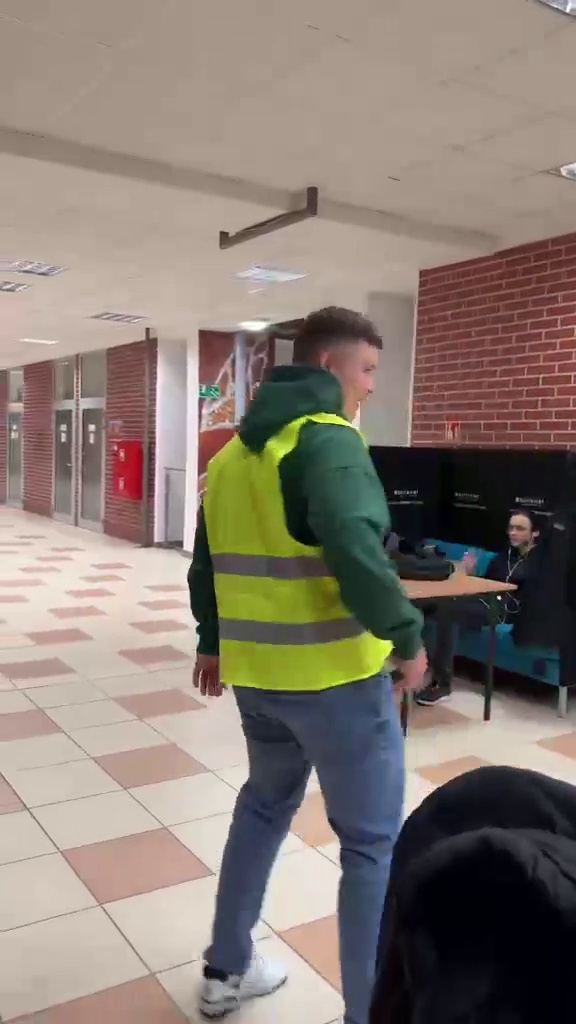no vest: (430, 498, 548, 651)
vest: (184, 299, 423, 994)
